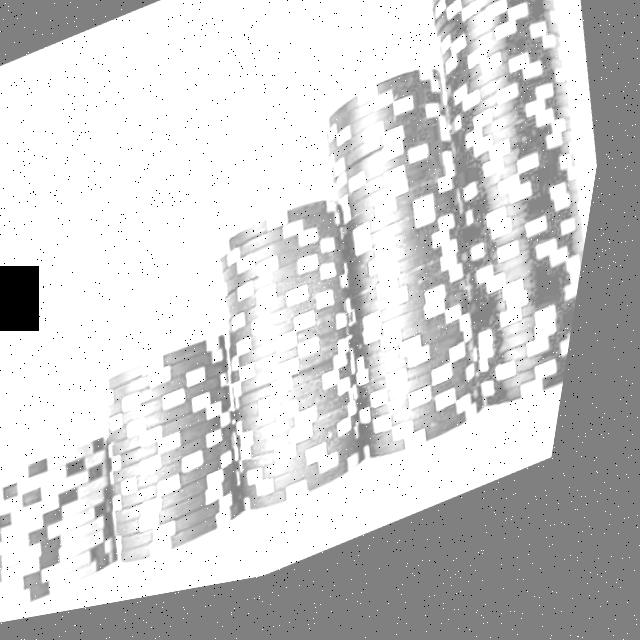Chip: (359, 0, 640, 466), (274, 55, 552, 507), (182, 186, 423, 550), (82, 320, 294, 593), (0, 422, 162, 633)
